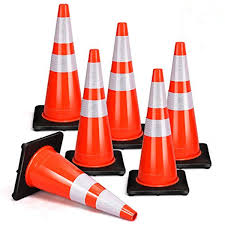cones: (12, 135, 139, 221), (68, 49, 126, 175), (130, 71, 188, 194), (34, 5, 87, 132), (105, 23, 149, 149), (167, 42, 210, 169)
